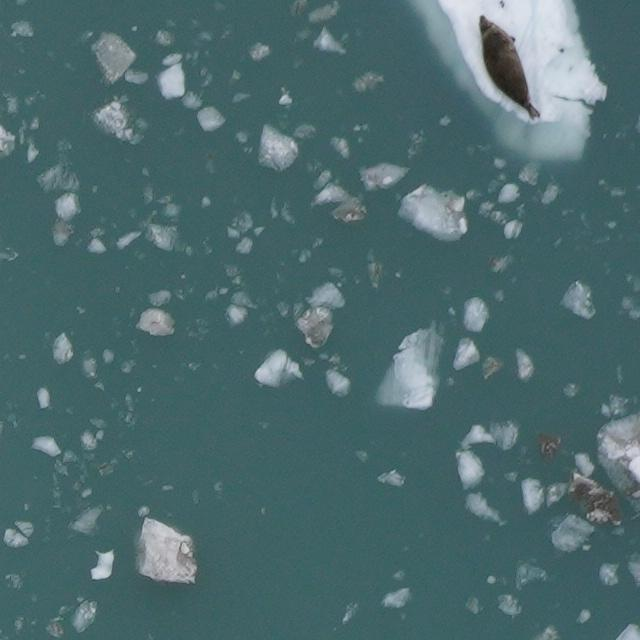seal: (473, 12, 544, 124)
